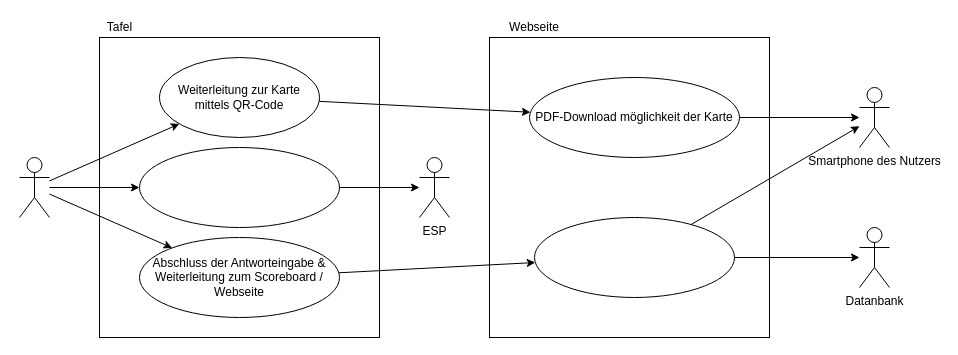
The diagram is 958 pixels wide and 355 high, and some of its shapes have lost their labels. Each missing label, with the box of its shape:
Aufforderung zur Code- & Pseudonym-Eingabe --> Anzeige des Scoreboards: (534, 216, 734, 298)
Eingabe der Antworten: (138, 146, 340, 228)
Nutzer: (18, 156, 50, 218)
